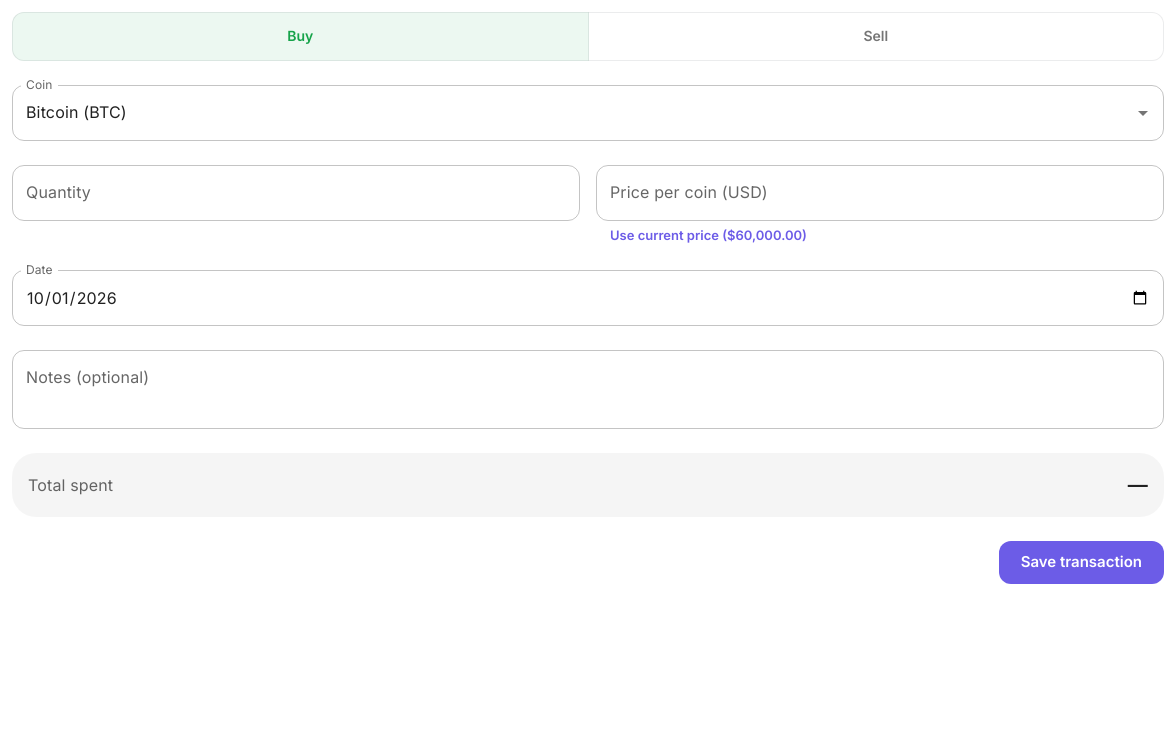
TransactionForm › does not allow selling more than the user holds
Click the button "Sell". click: (876, 36)
box: top-left (588, 12), bottom-right (1164, 60)
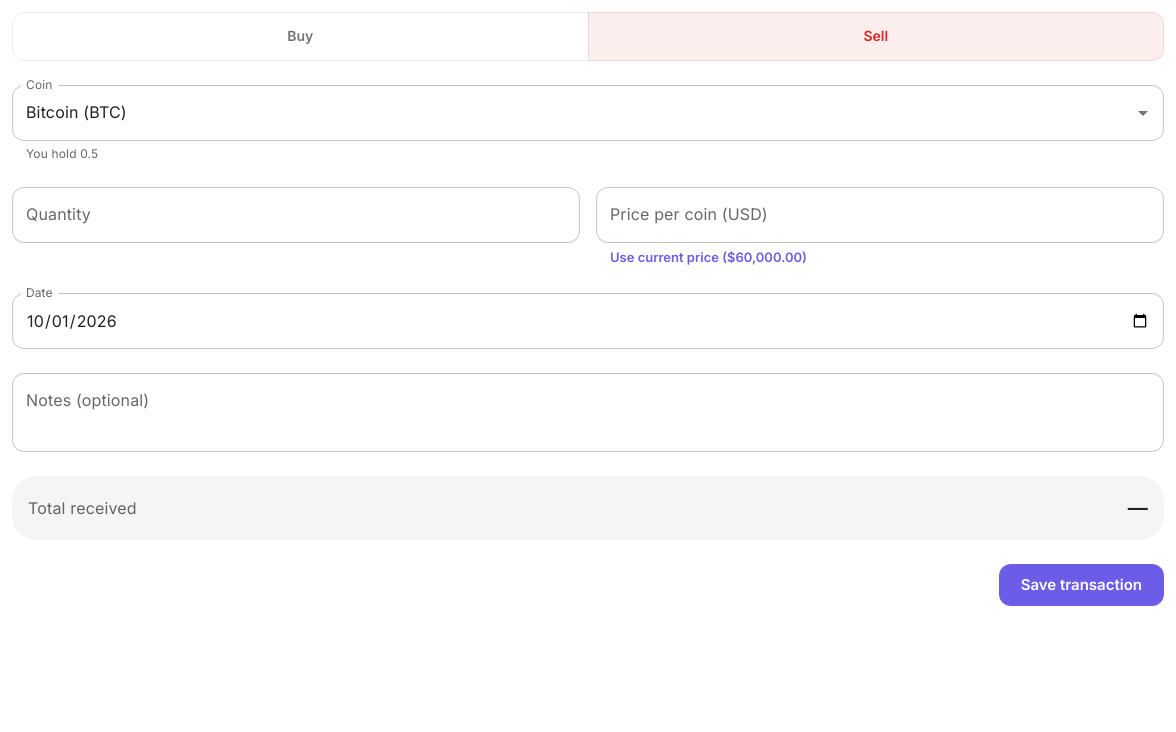
Type "1" into the number field labelled "Quantity". click: (296, 215)
box: top-left (12, 187), bottom-right (580, 243)
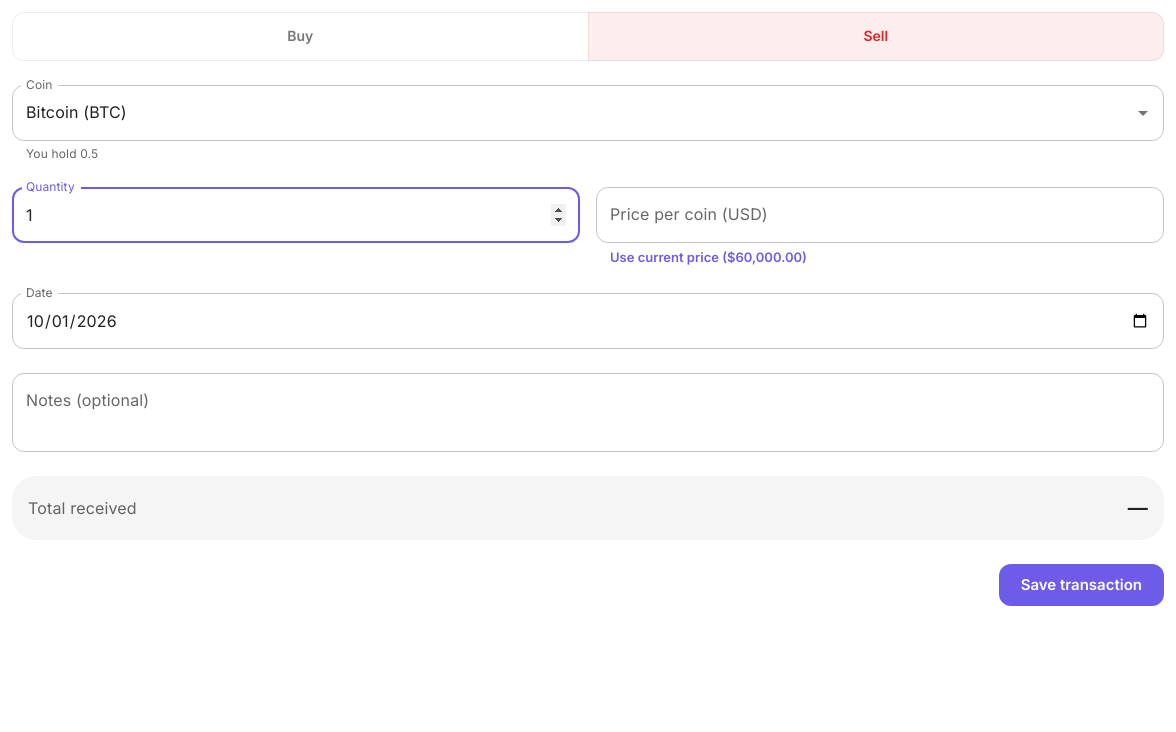
Type "60000" into the number field labelled "Price per coin (USD)". click: (880, 215)
box: top-left (596, 187), bottom-right (1164, 243)
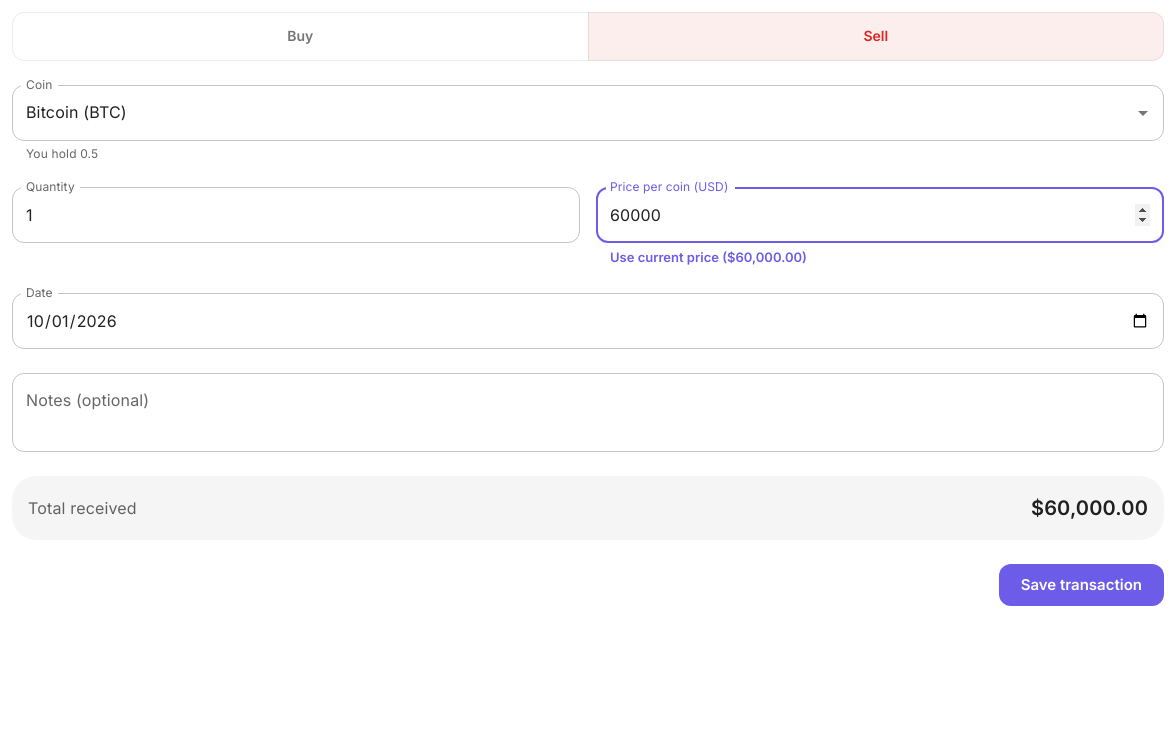
Click the button "Save transaction". click: (1081, 585)
box: top-left (999, 564), bottom-right (1164, 606)
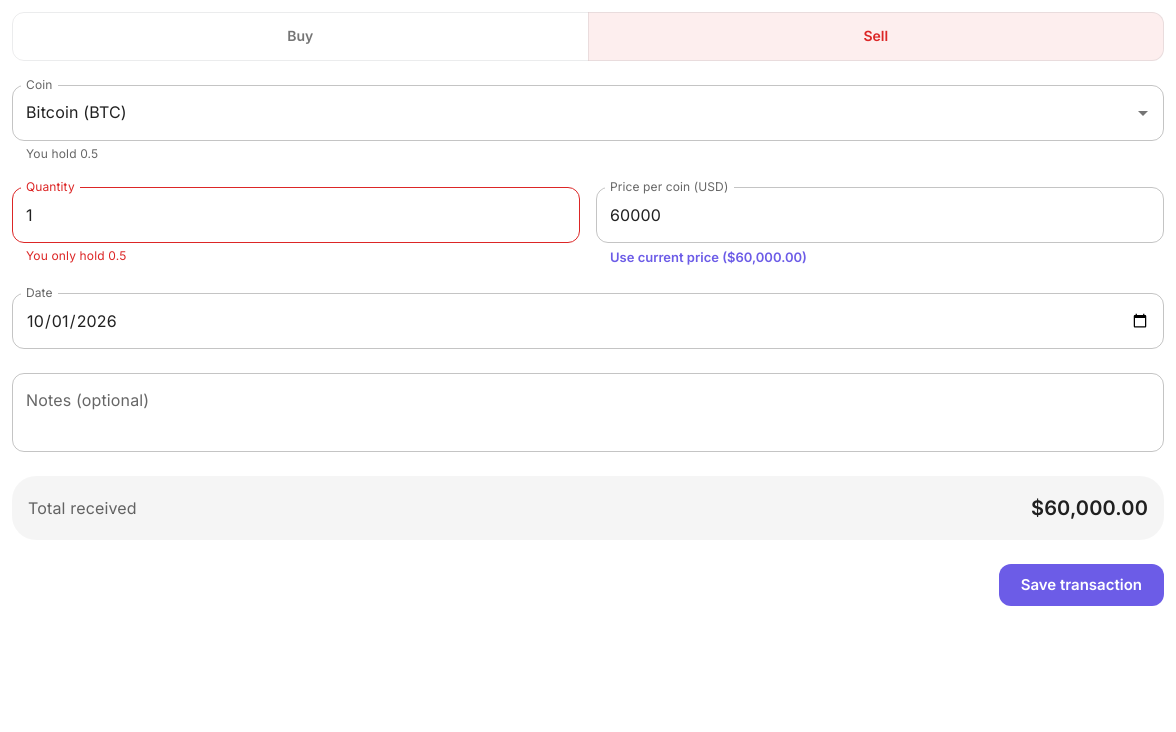
expect the text "You only hold 0.5" is shown: met, box top-left (26, 248), bottom-right (126, 263)
